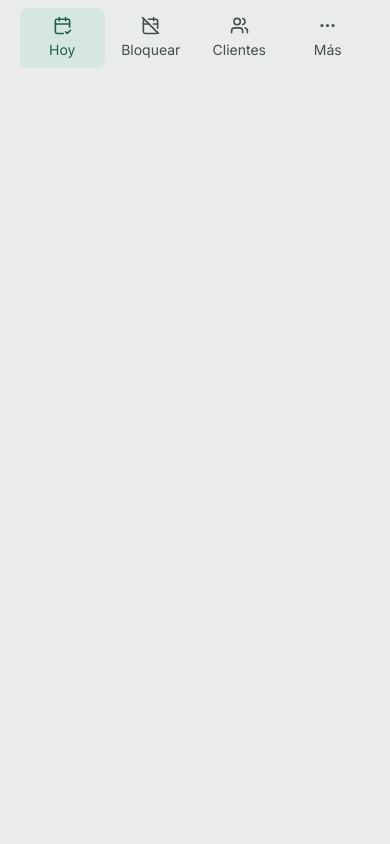
Test: Navegación del panel › abre Más en móvil y permite navegar sin un selector confuso
Click the button "Más". click: (328, 38)
box: [286,8,370,68]
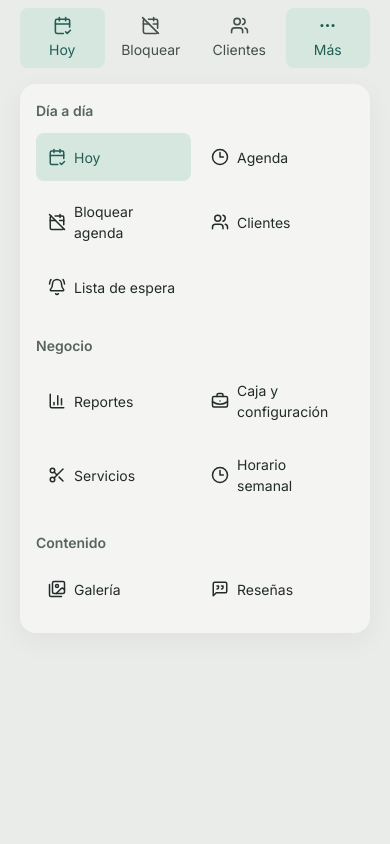
Click the button "Reportes". click: (114, 401)
box: [36,368,191,434]
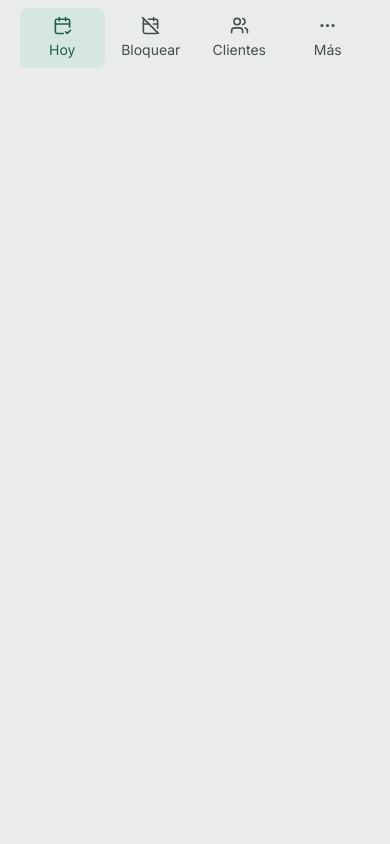
expect the heading "Negocio" is gone: met
